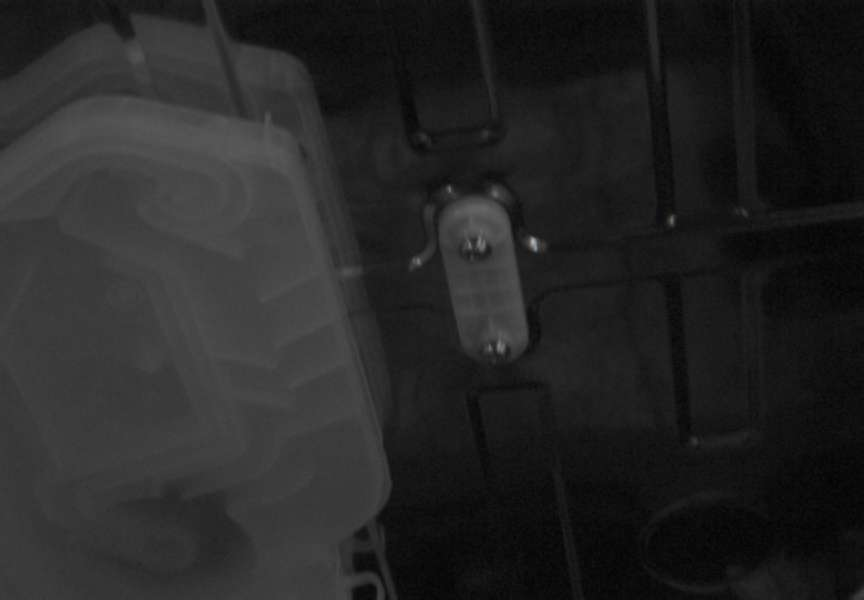screw: (459, 235, 492, 262), (480, 338, 511, 365)
